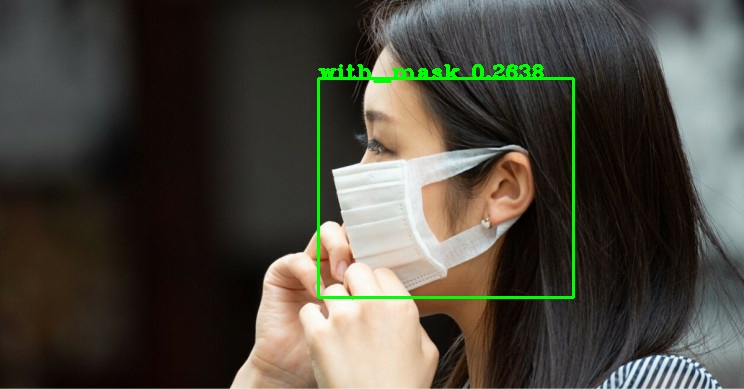with_mask: (331, 23, 546, 389)
